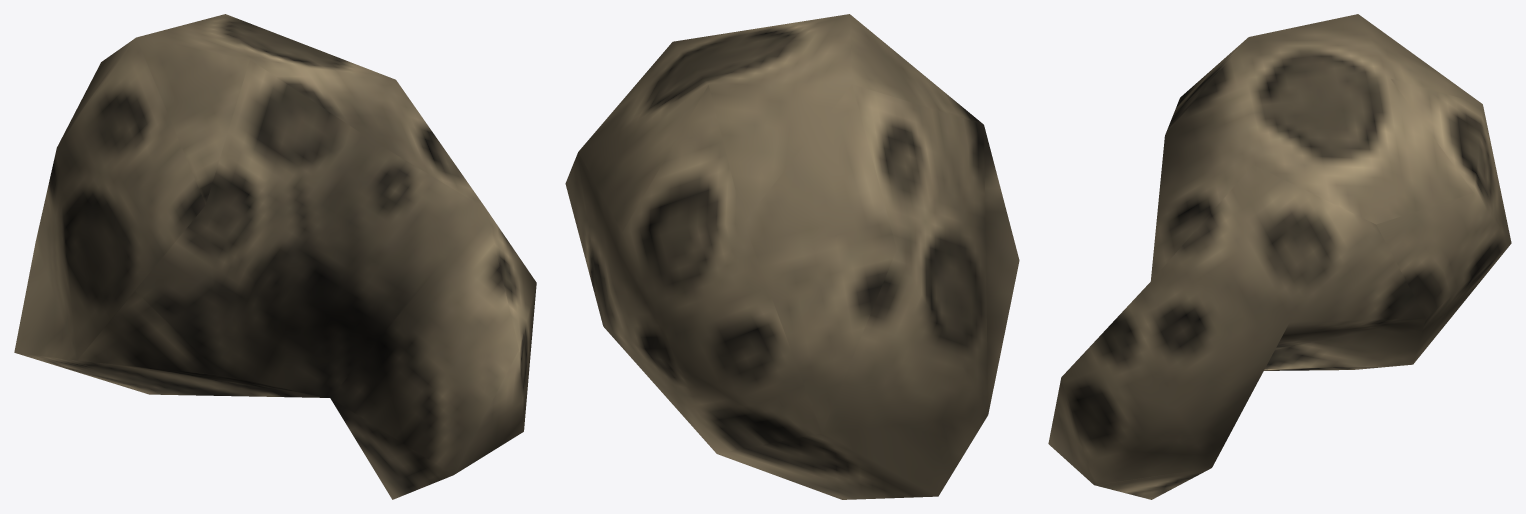
File: Asteroid_06.FBX
The picture shows the model from 3 angles, left to right: view 1: azimuth 30°, elevation 25°; view 2: azimuth 150°, elevation 25°; view 3: azimuth 270°, elevation 25°; orthographic projection. The views are drawn at different scales.
Parts seen in each view (by area): view 1: Asteroid_06; view 2: Asteroid_06; view 3: Asteroid_06.
Boxes of the visible parts, x1,y1,x2,y2 form: Asteroid_06: [14, 14, 536, 499]; Asteroid_06: [565, 14, 1019, 499]; Asteroid_06: [1048, 14, 1511, 499].
Size of the model in its own units: 56.46 by 57.08 by 56.89.
